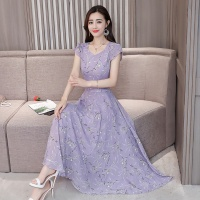C_dress: (46, 42, 156, 189)
